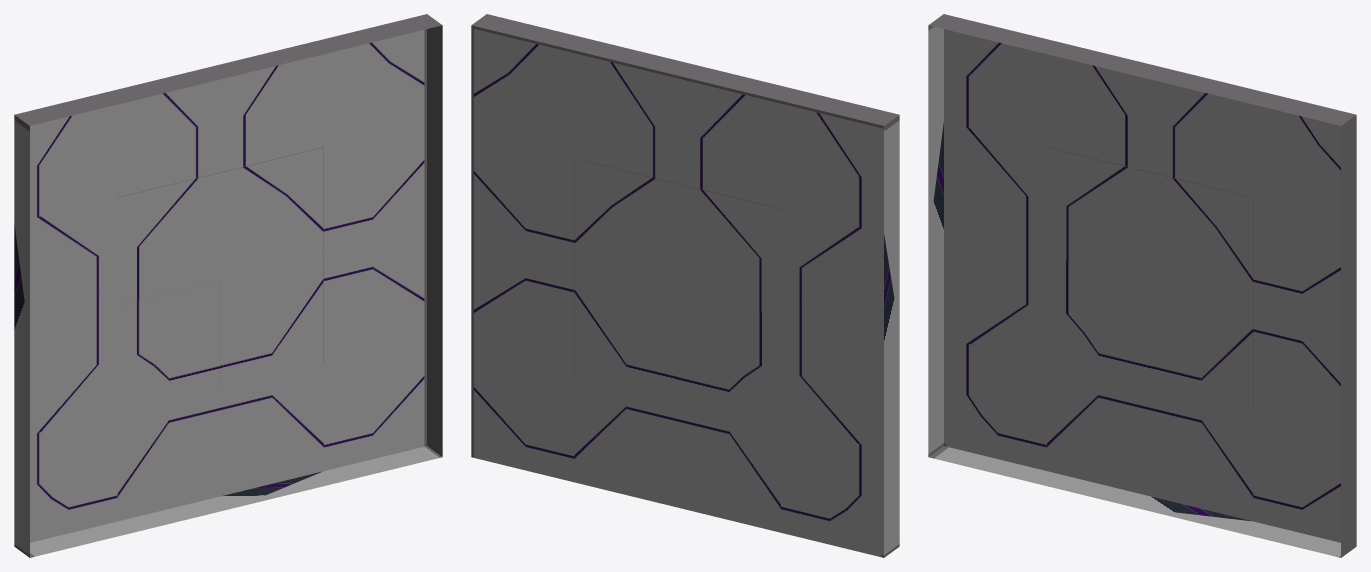
The model's file is KF_SM_BigPlane3.fbx.
3 views of the same model, side by side, from view 1: azimuth 30°, elevation 25°; view 2: azimuth 150°, elevation 25°; view 3: azimuth 330°, elevation 25° (orthographic).
Parts seen in each view (by area): view 1: KF_SM_BigPlane3; view 2: KF_SM_BigPlane3; view 3: KF_SM_BigPlane3.
Part boxes in pixels (<box>): KF_SM_BigPlane3: <box>14,14,442,557</box>; KF_SM_BigPlane3: <box>471,14,899,557</box>; KF_SM_BigPlane3: <box>928,14,1356,557</box>.
Bounding box in the file's own units: 5000 × 324 × 5000.
